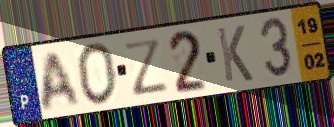2: (167, 28, 209, 96)
3: (256, 14, 294, 82)
A: (40, 48, 83, 114)
K: (214, 24, 255, 85)
O: (75, 40, 119, 107)
Z: (121, 36, 171, 98)
